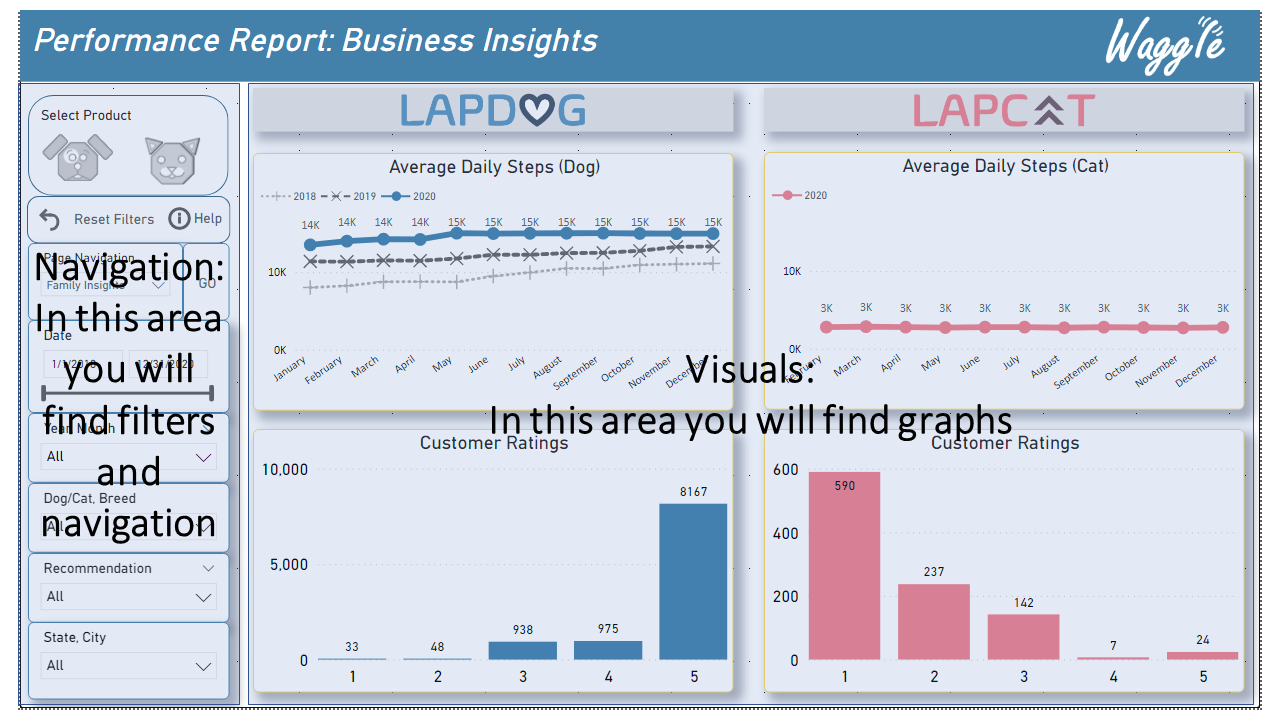

This screenshot's page, from the dashboard's own definition file:
{"tool":"powerbi","page":{"name":"Home","canvas":[1280,720],"ordinal":0},"visuals":[{"type":"basicShape","box":[0,0,1279.8,73.6],"z":0,"group":"g6"},{"type":"image","box":[768,80,496.3,44.9],"z":0,"group":"g5"},{"type":"group","id":"g1","title":"Group 5","box":[7.2,80.5,209.5,104.3],"z":0},{"type":"lineChart","title":"Average Daily Steps (Dog)","fields":{"Y":["Avg(Tracker_Data.Daily_Steps)"],"Category":["Date_Table.Month"],"Series":["Date_Table.Year"]},"box":[240,146.6,496,266.4],"z":0,"group":"g4"},{"type":"image","box":[1085.1,0,194.8,73.6],"z":1000,"group":"g6"},{"type":"lineChart","title":"Average Daily Steps (Cat)","fields":{"Y":["Avg(Tracker_Data.Daily_Steps)"],"Category":["Date_Table.Month"],"Series":["Date_Table.Year"]},"box":[768,146.6,496.3,266.3],"z":1000,"group":"g5"},{"type":"group","id":"g2","title":"Group 4","box":[7.2,184.8,209.5,48.5],"z":1000},{"type":"columnChart","title":"Customer Ratings","fields":{"Category":["Rating_Data.Rating"],"Y":["CountNonNull(Rating_Data.Device_Type)"]},"box":[240,431.8,496,272.2],"z":1000,"group":"g4"},{"type":"textbox","box":[7.2,5.8,709.9,59.2],"z":2000,"group":"g6"},{"type":"image","box":[240,80,496,44.9],"z":2000,"group":"g4"},{"type":"shape","box":[7.2,80.5,209.5,104.3],"z":2000,"group":"g1"},{"type":"shape","box":[7.2,184.8,209.5,48.5],"z":2000,"group":"g2"},{"type":"group","id":"g3","title":"Group 3","box":[7.2,233.3,209.5,80.5],"z":2000},{"type":"shape","box":[7.2,233.3,209.5,79.5],"z":2000,"group":"g3"},{"type":"columnChart","title":"Customer Ratings","fields":{"Category":["Rating_Data.Rating"],"Y":["CountNonNull(Rating_Data.Device_Type)"]},"box":[768,431.7,496.3,272.1],"z":2000,"group":"g5"},{"type":"image","title":"Cat Active","box":[124.7,115.6,66.4,66.4],"z":3000},{"type":"slicer","title":"Page Navigation","fields":{"Values":["Page Navigation.Tab Name"]},"box":[8.2,250.9,160,40.3],"z":3000,"group":"g8"},{"type":"slicer","fields":{"Values":["Date_Table.Date"]},"box":[8,312.8,208,96],"z":4000,"group":"g7"},{"type":"group","id":"g4","title":"LapDog Small","box":[240,80,496,624],"z":5000},{"type":"group","id":"g5","title":"LapCat Small","box":[768,80,496,624],"z":7000},{"type":"image","title":"Dog Active","box":[18.7,105.3,82.2,79.4],"z":8000},{"type":"slicer","fields":{"Values":["Date_Table.Year","Date_Table.Month_Short"]},"box":[8,408.8,208,72],"z":8000,"group":"g7"},{"type":"image","title":"Cat Inactive","box":[124.9,115.6,66.1,66.1],"z":9000},{"type":"image","title":"Dog Inactive","box":[18.3,105.1,82,79],"z":10000},{"type":"group","id":"g6","title":"Header","box":[0,0,1279.8,73.6],"z":11000},{"type":"textbox","box":[16,88.8,112,32],"z":12000,"group":"g1"},{"type":"group","id":"g7","title":"Group 1","box":[8,312.8,208,392],"z":12000},{"type":"slicer","fields":{"Values":["Pet_Data.Dog/Cat","Pet_Data.Breed"]},"box":[8,480.8,208,72],"z":12000,"group":"g7"},{"type":"actionButton","title":"Reset Button","box":[14.4,193.1,128,32],"z":13000,"group":"g2"},{"type":"slicer","fields":{"Values":["Rating_Data.Would You Recommend this Product?"]},"box":[8,552.8,208,72],"z":13000,"group":"g7"},{"type":"actionButton","box":[148.6,192,64,32],"z":14000,"group":"g2"},{"type":"slicer","fields":{"Values":["Family_Data.State","Family_Data.City"]},"box":[8,624.8,208,80],"z":15000,"group":"g7"},{"type":"actionButton","box":[164.1,261.2,47.5,23.7],"z":18000,"group":"g8"},{"type":"textbox","box":[8.2,285.9,207.5,27.9],"z":22000,"group":"g8"},{"type":"textbox","box":[16.5,236.4,195.1,27.9],"z":23000,"group":"g8"},{"type":"group","id":"g8","title":"Group 2","box":[8.2,236.4,207.5,77.4],"z":23002,"group":"g3"}]}

Visuals, with their boxes in screenshot pixels (x1, y1, x2, y2), scaled from the page's 1280x720 canvas onto the 1280x720 screenshot:
basicShape: select_region(0, 0, 1279, 74)
image: select_region(768, 80, 1264, 125)
"Group 5" group: select_region(7, 80, 217, 185)
"Average Daily Steps (Dog)" lineChart: select_region(240, 147, 736, 413)
image: select_region(1085, 0, 1279, 74)
"Average Daily Steps (Cat)" lineChart: select_region(768, 147, 1264, 413)
"Group 4" group: select_region(7, 185, 217, 233)
"Customer Ratings" columnChart: select_region(240, 432, 736, 704)
textbox: select_region(7, 6, 717, 65)
image: select_region(240, 80, 736, 125)
shape: select_region(7, 80, 217, 185)
shape: select_region(7, 185, 217, 233)
"Group 3" group: select_region(7, 233, 217, 314)
shape: select_region(7, 233, 217, 313)
"Customer Ratings" columnChart: select_region(768, 432, 1264, 704)
"Cat Active" image: select_region(125, 116, 191, 182)
"Page Navigation" slicer: select_region(8, 251, 168, 291)
slicer - Date_Table.Date: select_region(8, 313, 216, 409)
"LapDog Small" group: select_region(240, 80, 736, 704)
"LapCat Small" group: select_region(768, 80, 1264, 704)
"Dog Active" image: select_region(19, 105, 101, 185)
slicer - Date_Table.Year x Date_Table.Month_Short: select_region(8, 409, 216, 481)
"Cat Inactive" image: select_region(125, 116, 191, 182)
"Dog Inactive" image: select_region(18, 105, 100, 184)
"Header" group: select_region(0, 0, 1279, 74)
textbox: select_region(16, 89, 128, 121)
"Group 1" group: select_region(8, 313, 216, 705)
slicer - Pet_Data.Dog/Cat x Pet_Data.Breed: select_region(8, 481, 216, 553)
"Reset Button" actionButton: select_region(14, 193, 142, 225)
slicer - Rating_Data.Would You Recommend this Product?: select_region(8, 553, 216, 625)
actionButton: select_region(149, 192, 213, 224)
slicer - Family_Data.State x Family_Data.City: select_region(8, 625, 216, 705)
actionButton: select_region(164, 261, 212, 285)
textbox: select_region(8, 286, 216, 314)
textbox: select_region(16, 236, 212, 264)
"Group 2" group: select_region(8, 236, 216, 314)
